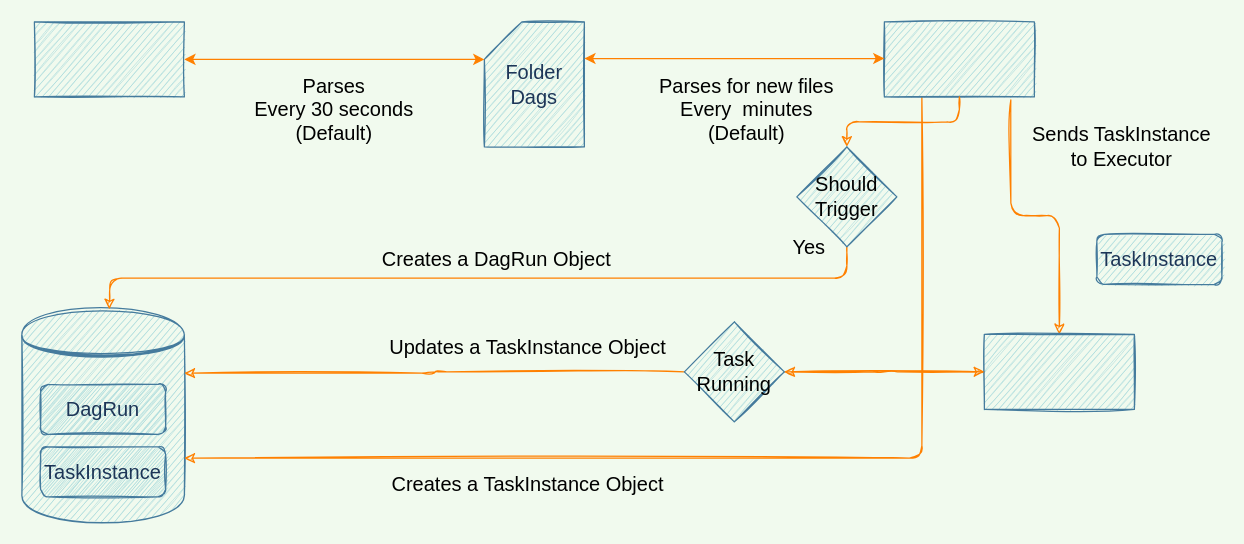
Image size: 1244x544. Some labels were removed from this diagram. Here are the shapes that lost their labels. From the top down, the centre of each, then its label:
At point (108, 59): "Web Server".
At point (958, 59): "Scheduler".
At point (1058, 371): "Executor".
